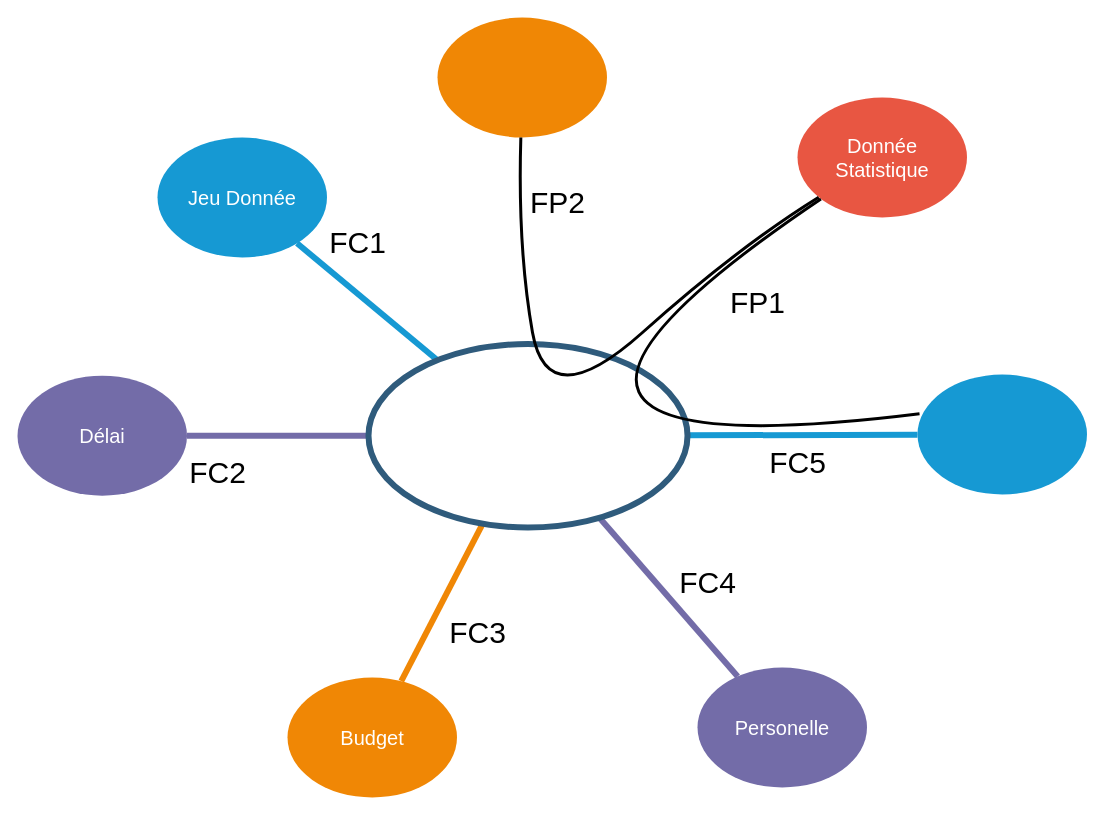
Some shapes in this 1104 by 814 pixel diagram are drawn without their labels. The shapes that lost their labels are listed below. From the top down, each one's centre as x and y in pixels, then its label:
At (521,77): "Urilisateur".
At (527,435): "Traitement Information".
At (1001,434): "Requête, Table SQL".
